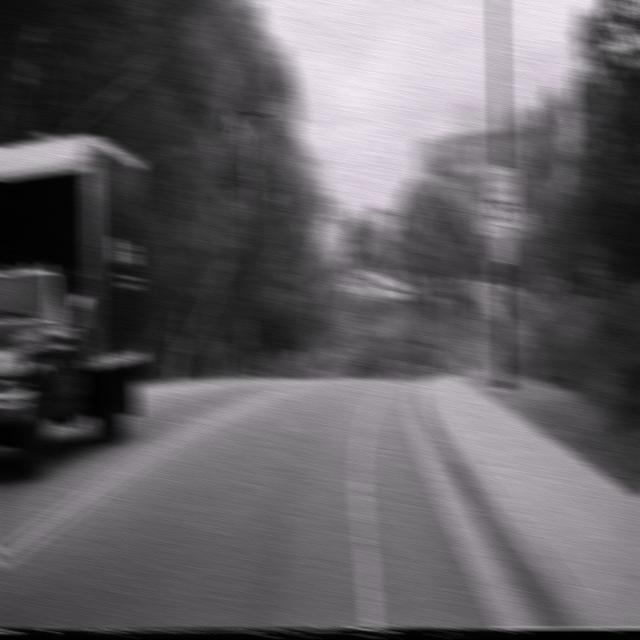speedLimit35: (486, 165, 518, 230)
